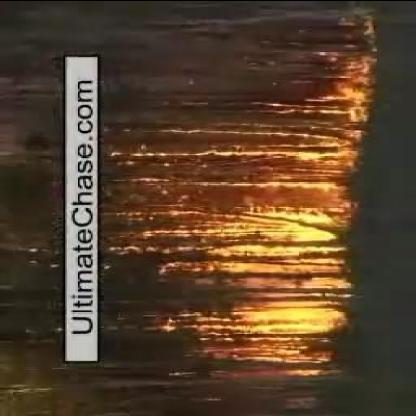foggia-v2-map80-epoch100 - v1 4323: (239, 299, 331, 334), (259, 208, 331, 239)
